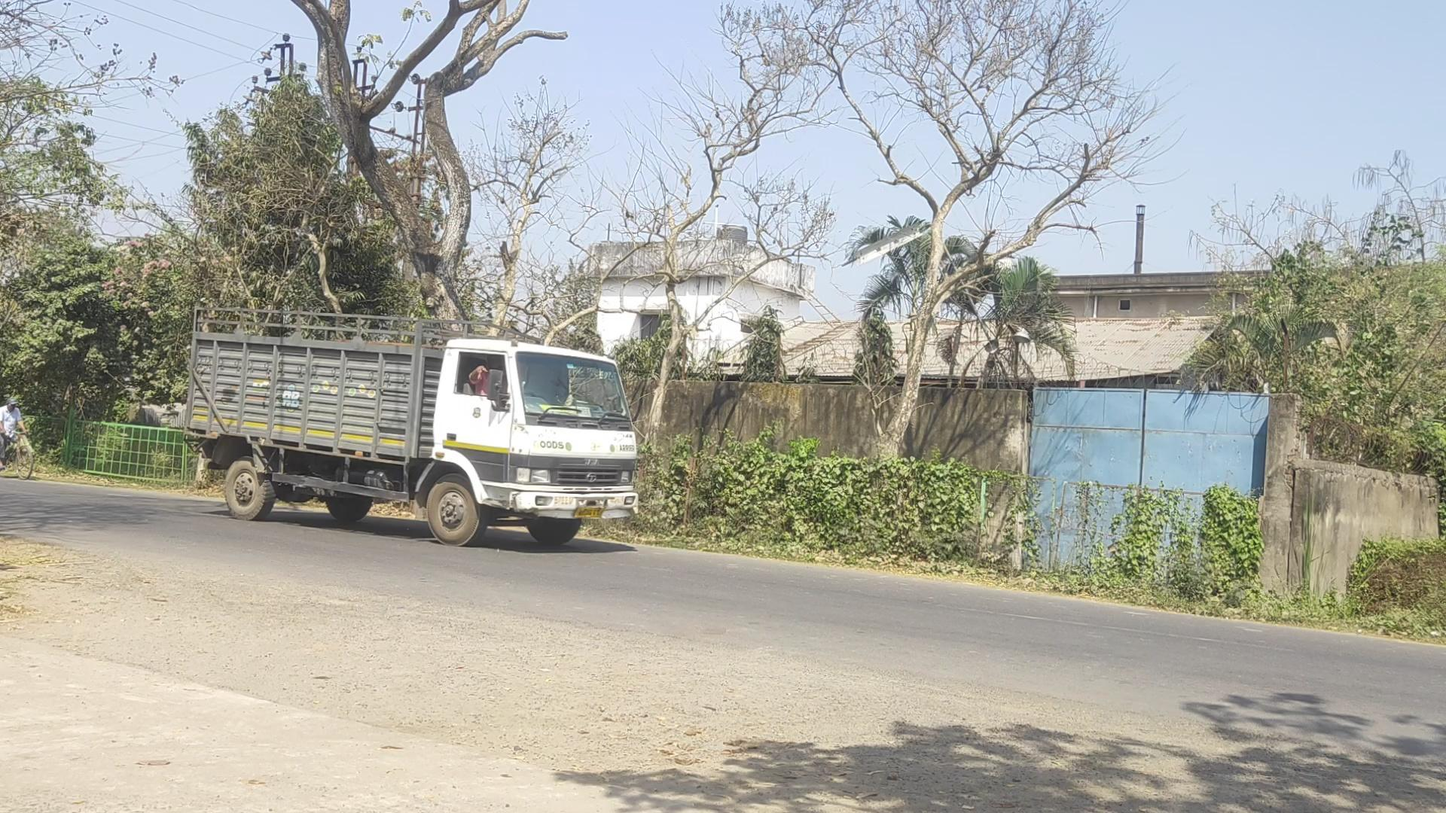bike: (1, 395, 35, 480)
truck: (184, 303, 637, 547)
